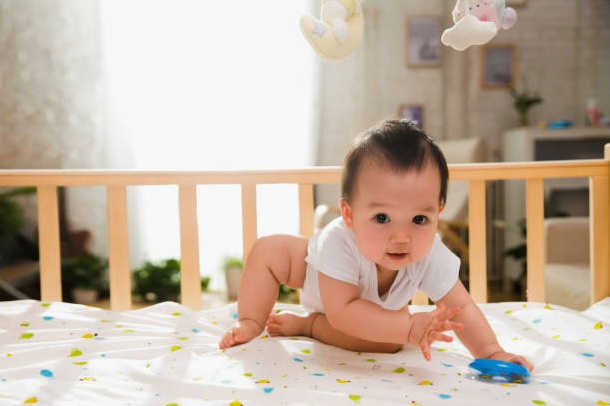baby: (219, 120, 531, 369)
crib: (0, 145, 609, 405), (0, 167, 339, 310)
